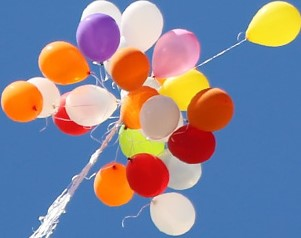Balloon: (246, 1, 301, 48), (152, 29, 200, 78), (64, 84, 116, 126), (38, 40, 91, 81), (187, 87, 233, 132), (76, 14, 119, 62), (149, 192, 195, 236), (119, 1, 162, 47), (168, 124, 215, 164), (127, 153, 170, 195), (1, 80, 43, 122), (94, 163, 135, 205), (140, 96, 178, 139), (111, 48, 149, 89)
